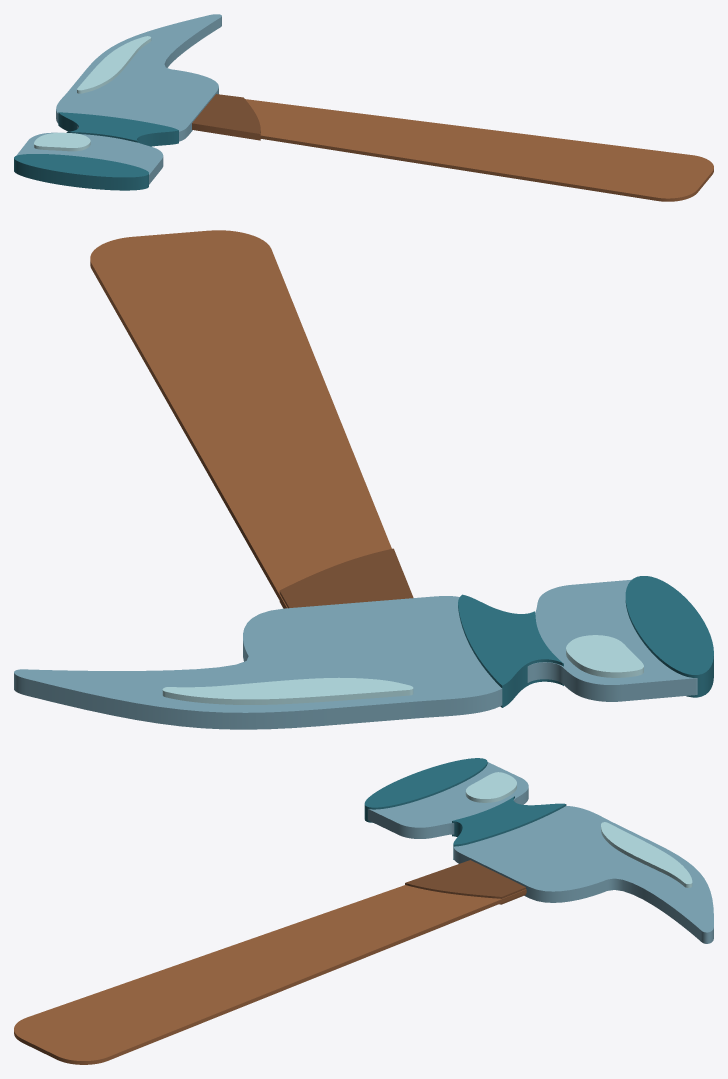
Rendered from emoji_u1f528.glb.
3 views of the same model, one above another, from view 1: azimuth 30°, elevation 25°; view 2: azimuth 150°, elevation 25°; view 3: azimuth 270°, elevation 25° (orthographic). The views are drawn at different scales.
Visible parts, largest first — view 1: emoji_u1f528; view 2: emoji_u1f528; view 3: emoji_u1f528.
Part boxes in pixels (x1,y1,x2,y2): emoji_u1f528: [14, 14, 713, 201]; emoji_u1f528: [14, 230, 713, 729]; emoji_u1f528: [14, 758, 713, 1064].
Size of the model in its own units: 0.0336 by 0.001 by 0.0334.
